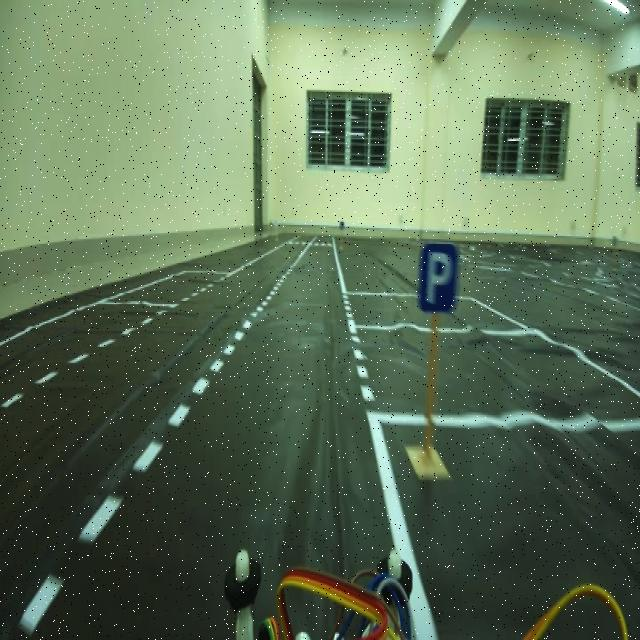parking: (414, 239, 465, 312)
